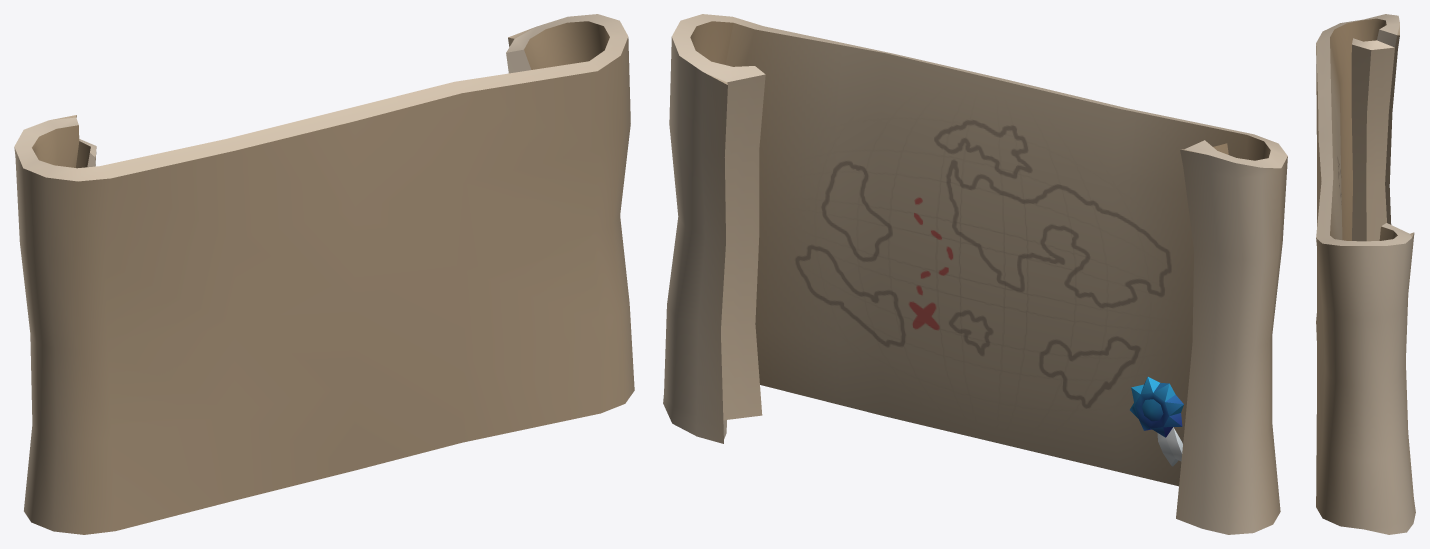
File: map.glb
3 renders of one model, left to right at view 1: azimuth 30°, elevation 25°; view 2: azimuth 150°, elevation 25°; view 3: azimuth 270°, elevation 25°, orthographic. The views are drawn at different scales.
Parts seen in each view (by area): view 1: map; view 2: map; view 3: map.
Part boxes in pixels (x1,y1,x2,y2): map: [14, 14, 634, 534]; map: [663, 14, 1287, 534]; map: [1316, 14, 1415, 534].
Bounding box in the file's own units: 1.74 × 1.09 × 0.318.
2 materials, 2 textured.
